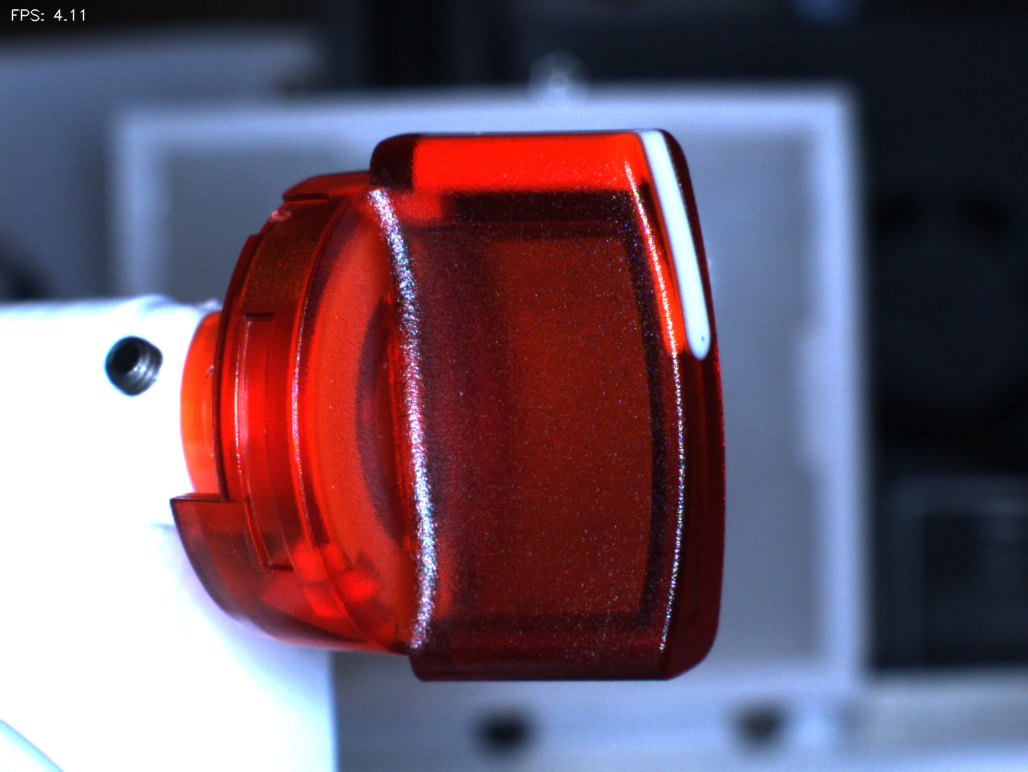PointNoir: (661, 308, 722, 374)
